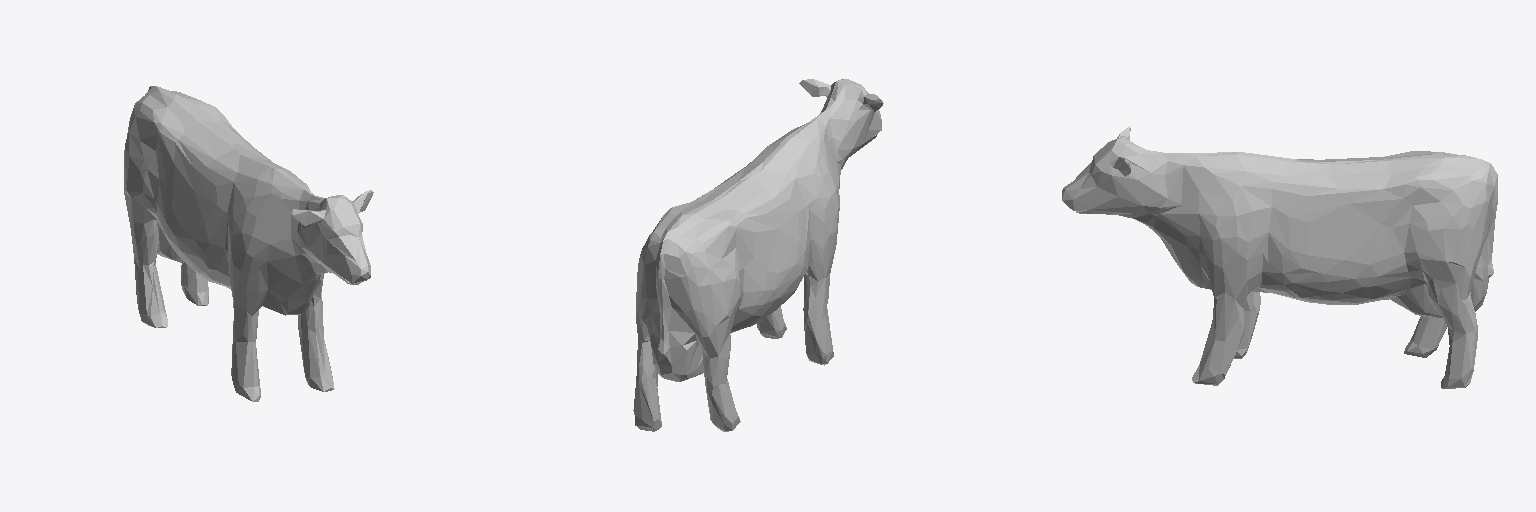
File: step5.obj
The picture shows the model from 3 angles: view 1: azimuth 30°, elevation 25°; view 2: azimuth 150°, elevation 25°; view 3: azimuth 270°, elevation 25°; orthographic projection.
Visible parts, largest first — view 1: Cow:cow; view 2: Cow:cow; view 3: Cow:cow.
Part boxes in pixels (left/top/right/bottom): Cow:cow: left=124, top=86, right=373, bottom=401; Cow:cow: left=633, top=79, right=883, bottom=431; Cow:cow: left=1062, top=126, right=1497, bottom=388.
Bounding box in the file's own units: 4.58 × 11.61 × 19.59.